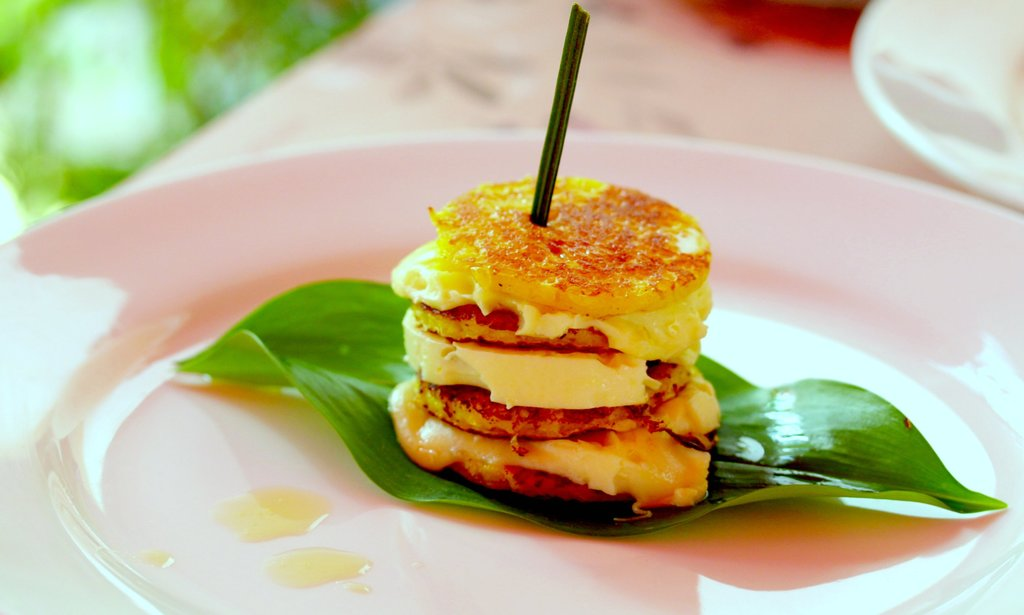sandwich: (385, 173, 724, 528)
